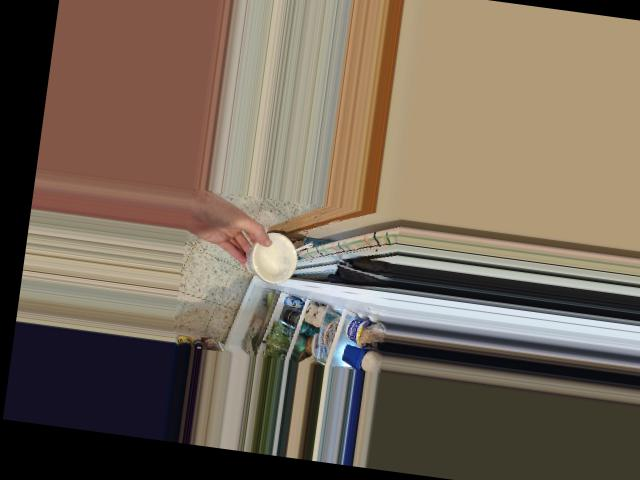cotage: (241, 234, 301, 285)
